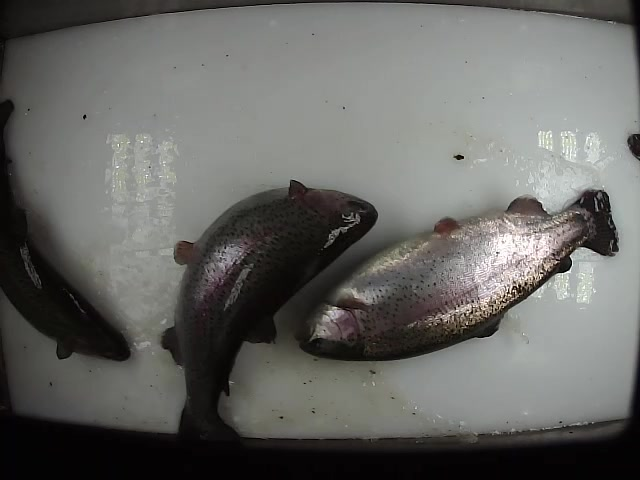fish: (157, 178, 380, 460), (292, 185, 623, 363), (1, 96, 134, 365)
